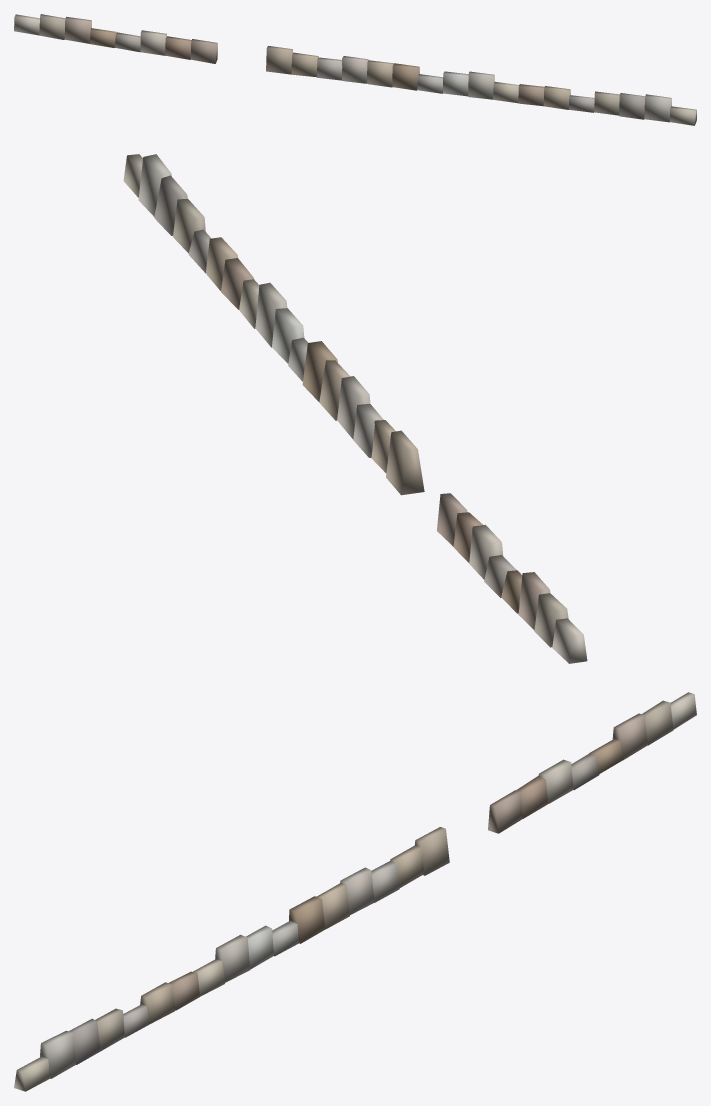
Rendered from farm_4_18_far.glb.
3 renders of one model, top to bottom at view 1: azimuth 30°, elevation 25°; view 2: azimuth 150°, elevation 25°; view 3: azimuth 270°, elevation 25°, orthographic. The views are drawn at different scales.
Parts seen in each view (by area): view 1: geometry_0; view 2: geometry_0; view 3: geometry_0.
Boxes of the visible parts, <box> form: geometry_0: <box>14,14,696,125</box>; geometry_0: <box>123,154,587,663</box>; geometry_0: <box>14,692,696,1091</box>.
Size of the model in its own units: 32.37 by 3.58 by 28.56.
